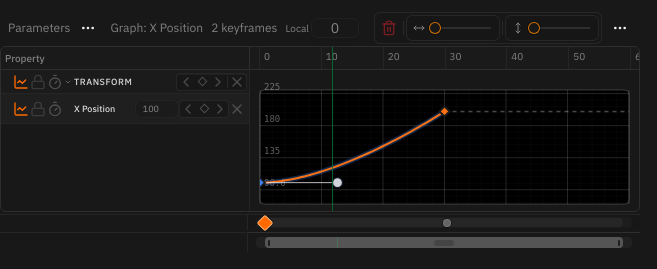
Test: DopesheetEditor property groups › shows graph options for ruler units and handle visibility
Step 1. Press the mouse on the button named "graph view options" → (620, 28), box [608, 16, 632, 40]
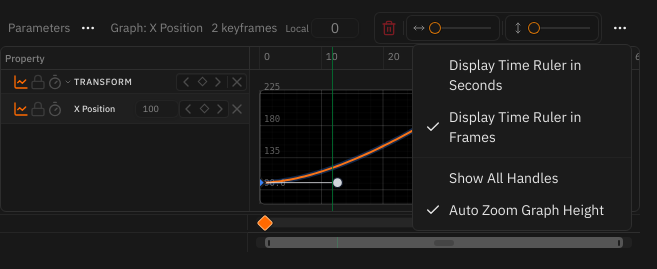
Check: the menu item "Display Time Ruler in Seconds" is shown, box [449, 56, 581, 94]
Check: the menu item "Display Time Ruler in Frames" is shown, box [425, 108, 581, 146]
Check: the menu item "Show All Handles" is shown, box [449, 169, 558, 187]
